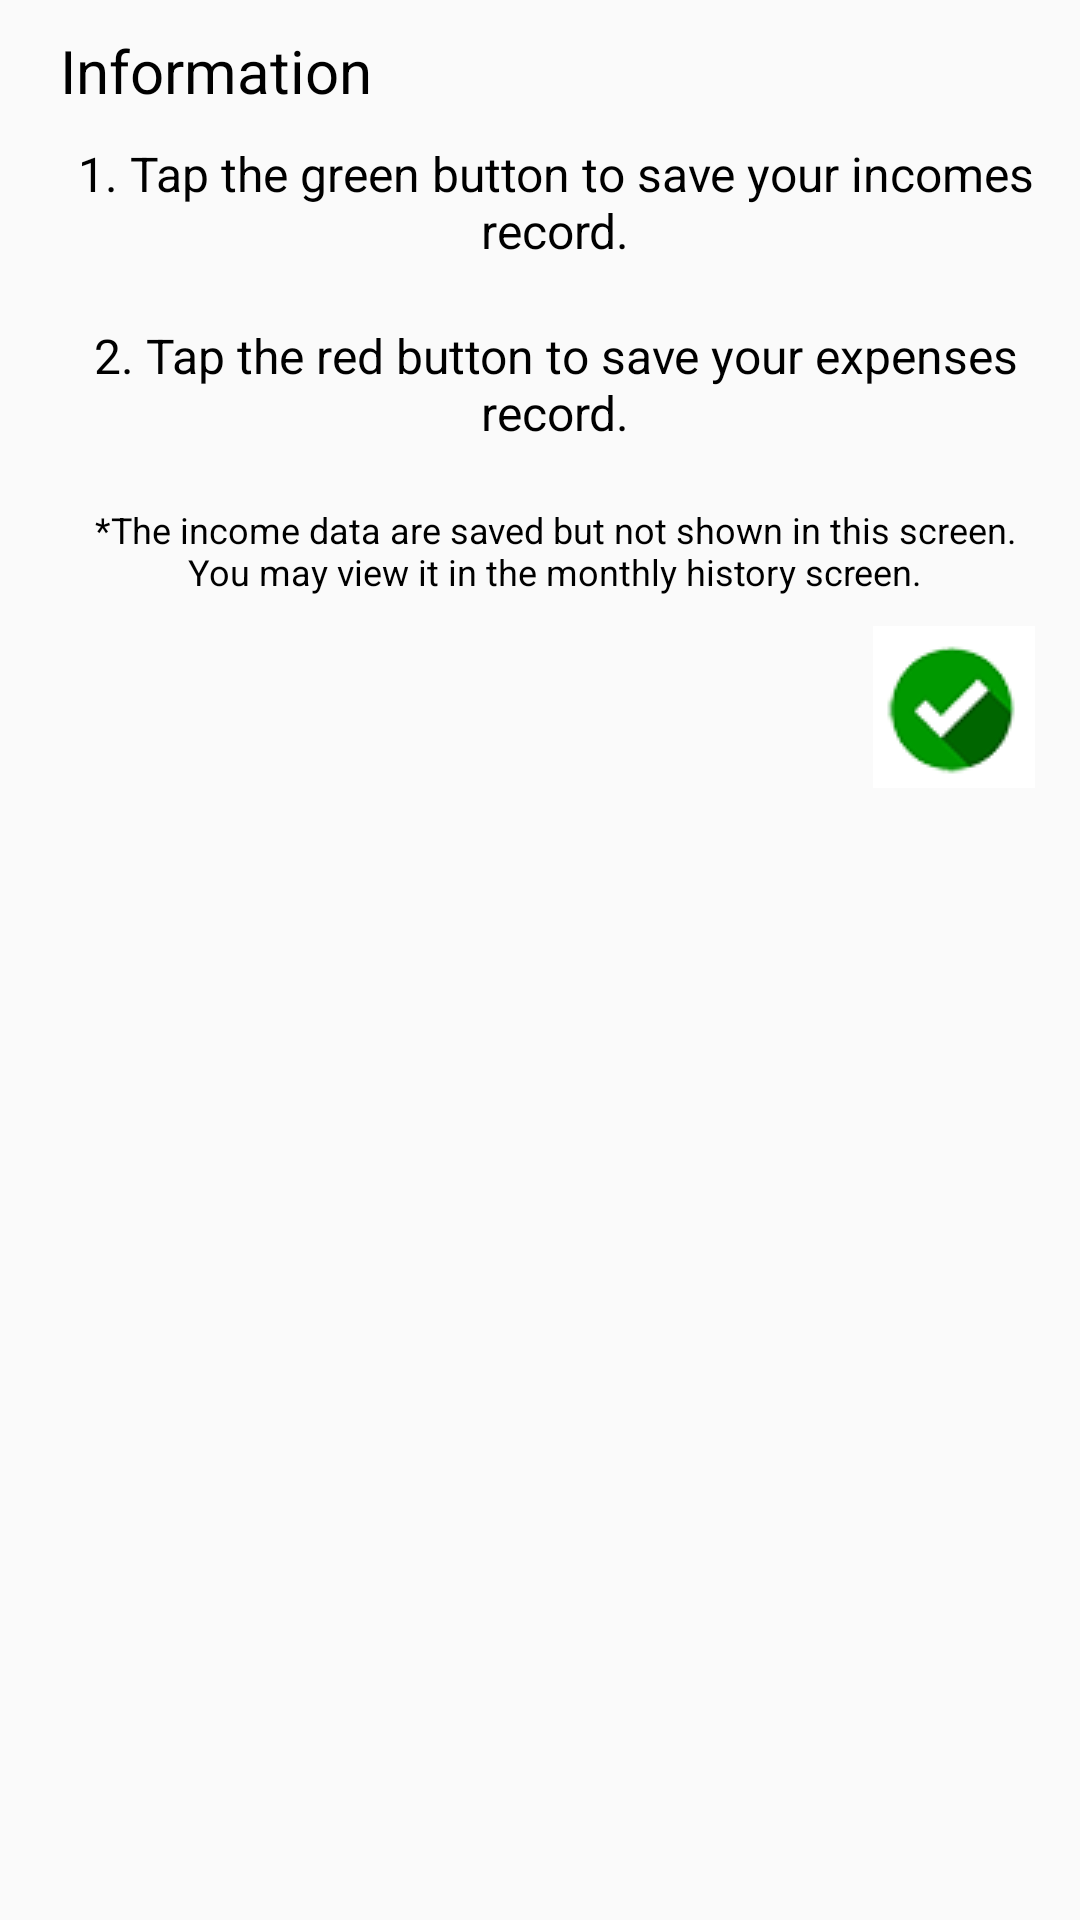

Locate icon controls on the screen. Image size 1080px x 1920px, boxes as (x1, y1, x2, y2).
tick: (887, 646, 1015, 774)
